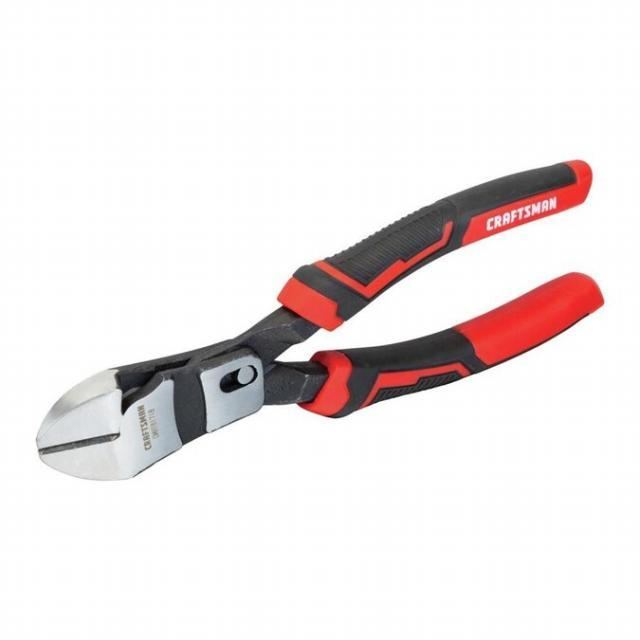pliers: (30, 155, 609, 492)
